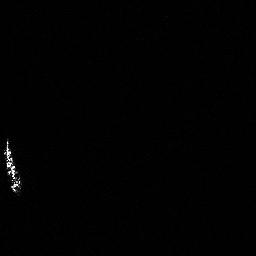ship: (1, 137, 29, 195)
